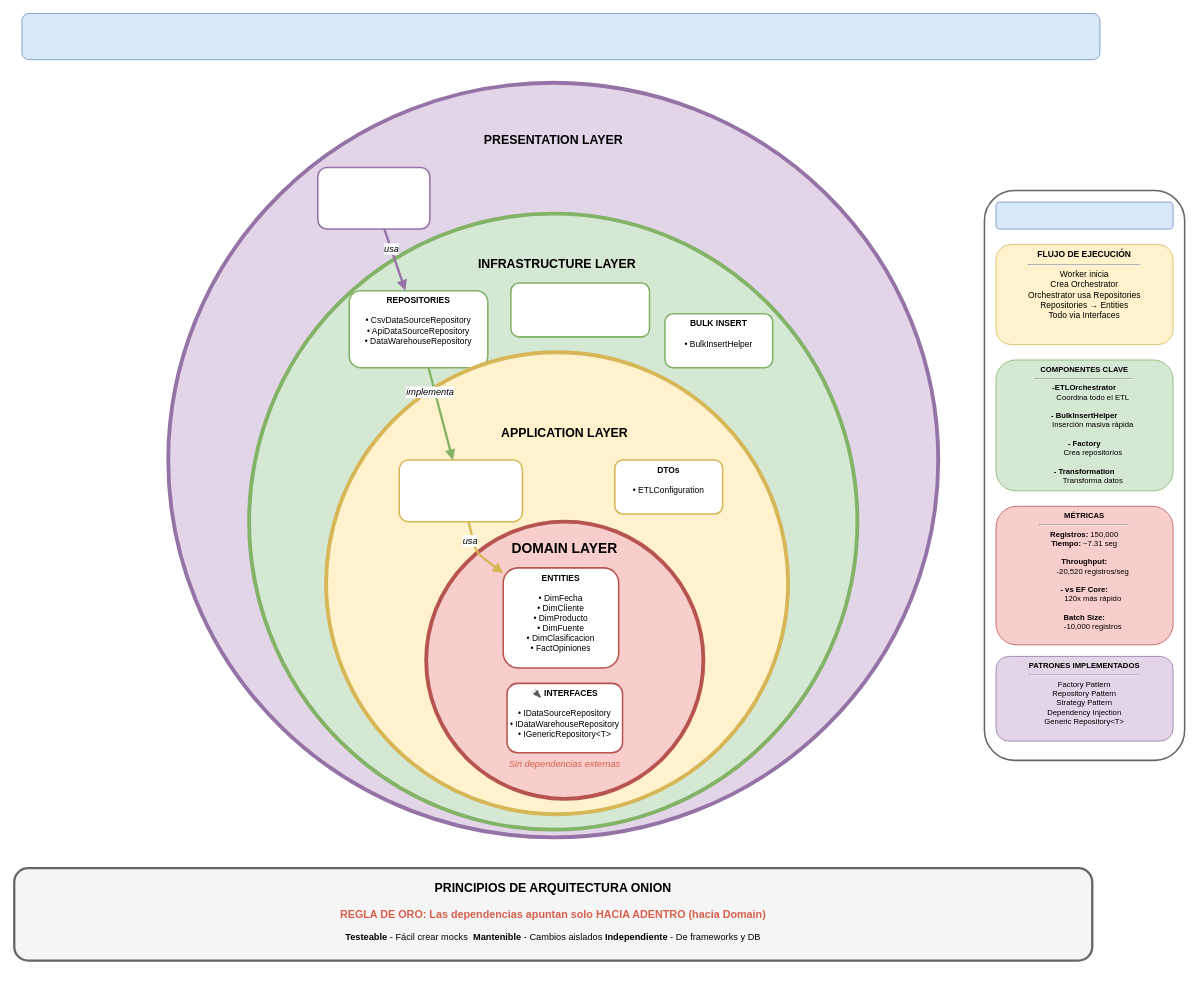
The diagram is 1199 pixels wide and 982 high, and some of its shapes have lost their labels. Each missing label, with the centre of its shape:
"ARQUITECTURA ONION - Sistema ETL de Opiniones" goes at [560,36].
"FACTORY • DataSourceRepositoryFactory" goes at [580,309].
"INFORMACIÓN" goes at [1084,215].
"SERVICES • ETLOrchestrator • TransformationService" goes at [460,490].
"WORKER SERVICE • ETLWorker • Program.cs" goes at [373,197].
